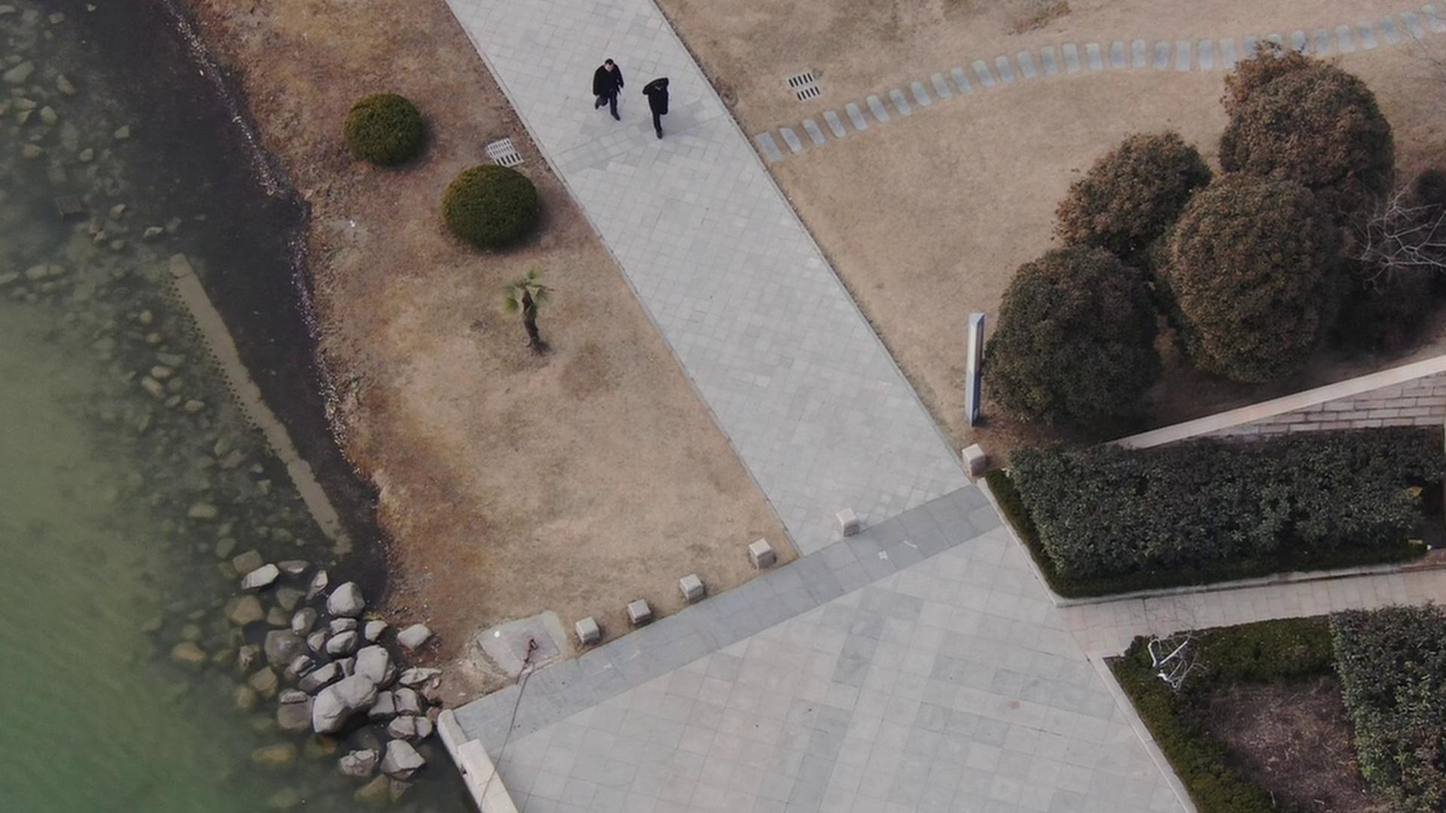human: (618, 64, 667, 141), (570, 45, 609, 127)
